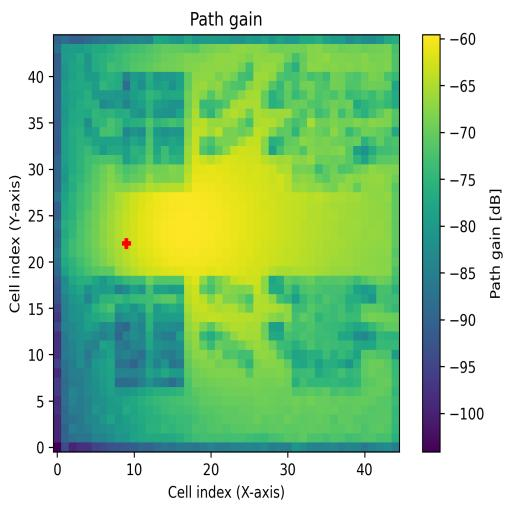Concrete: (292, 74, 378, 173)
Glass: (122, 71, 192, 182)
Metal: (292, 276, 362, 388)
Wood: (115, 276, 184, 388)
